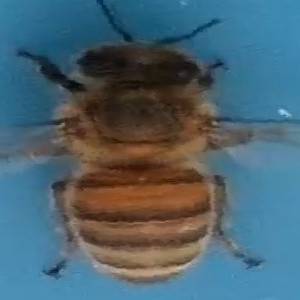bee: (17, 10, 285, 288)
